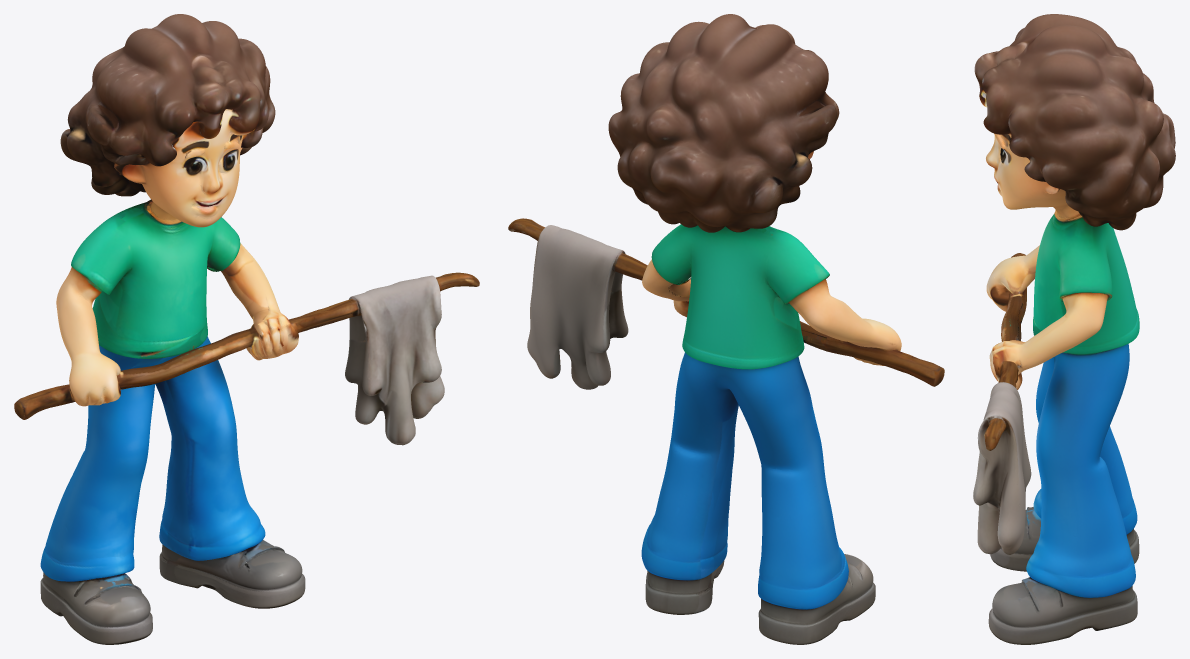
The model's file is NiñoCasilla9(recogiendoBasura).glb.
3 views of the same model, side by side, from view 1: azimuth 30°, elevation 25°; view 2: azimuth 150°, elevation 25°; view 3: azimuth 270°, elevation 25° (orthographic).
Visible parts, largest first — view 1: model; view 2: model; view 3: model.
Boxes of the visible parts, left/top/right/bottom form: model: left=14, top=14, right=479, bottom=644; model: left=508, top=14, right=944, bottom=644; model: left=973, top=14, right=1175, bottom=644.
Size of the model in its own units: 1.54 by 1.9 by 0.6063.
1 material, 1 textured.
